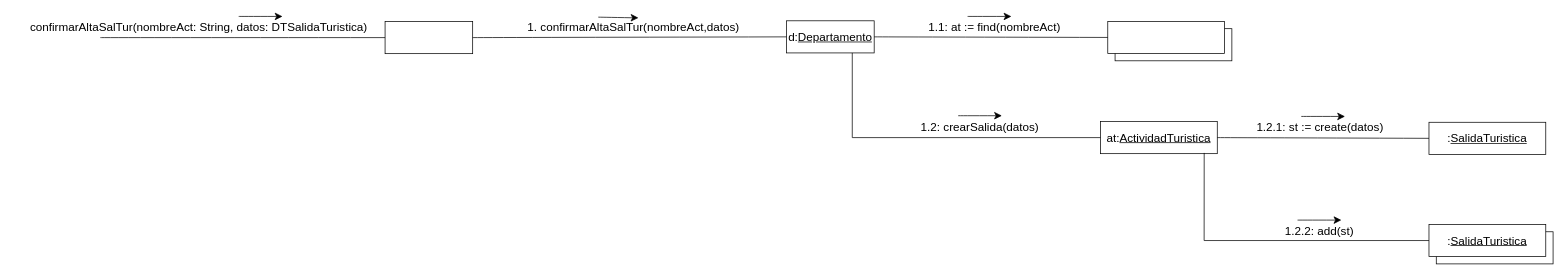
Some shapes in this 1566 by 277 pixel diagram are drawn without their labels. The shapes that lost their labels are listed below. From the top down, each one's centre as x and y in pixels, then its label:
[428,37]: : Sistema
[1166,37]: : ActividadTuristica
